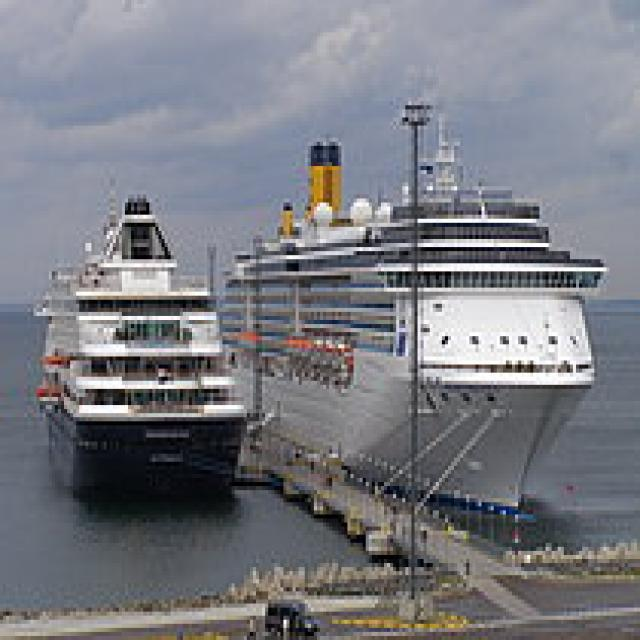Ship: (214, 94, 620, 524), (19, 175, 263, 524)
